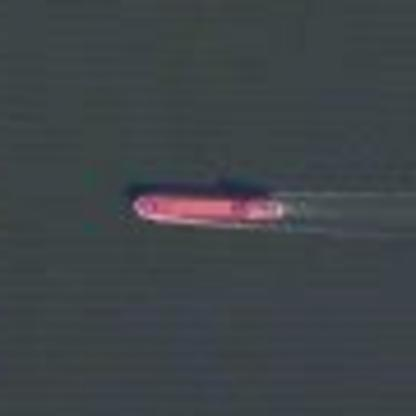ship: (121, 177, 293, 238)
